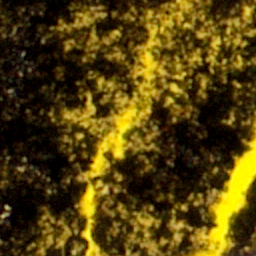cement_matrix: (0, 0, 174, 255), (92, 0, 255, 255), (225, 179, 255, 255), (138, 216, 151, 228), (211, 37, 220, 49), (173, 221, 181, 233), (243, 8, 251, 18), (147, 243, 156, 251), (171, 85, 179, 93), (79, 16, 89, 22), (176, 69, 181, 74), (192, 55, 196, 60), (231, 22, 235, 27)
cracks: (67, 0, 193, 255), (188, 117, 255, 255), (139, 217, 150, 227), (212, 38, 219, 48), (174, 222, 180, 232), (244, 9, 250, 17), (148, 244, 155, 250), (172, 86, 178, 92), (80, 17, 88, 21), (177, 70, 180, 73), (193, 56, 195, 59), (232, 23, 234, 26)
